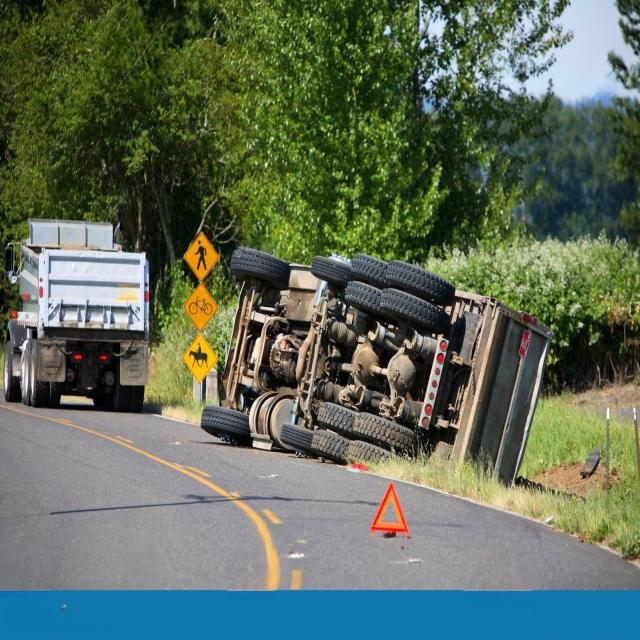accident: (201, 247, 552, 482)
truck: (4, 220, 149, 411)
